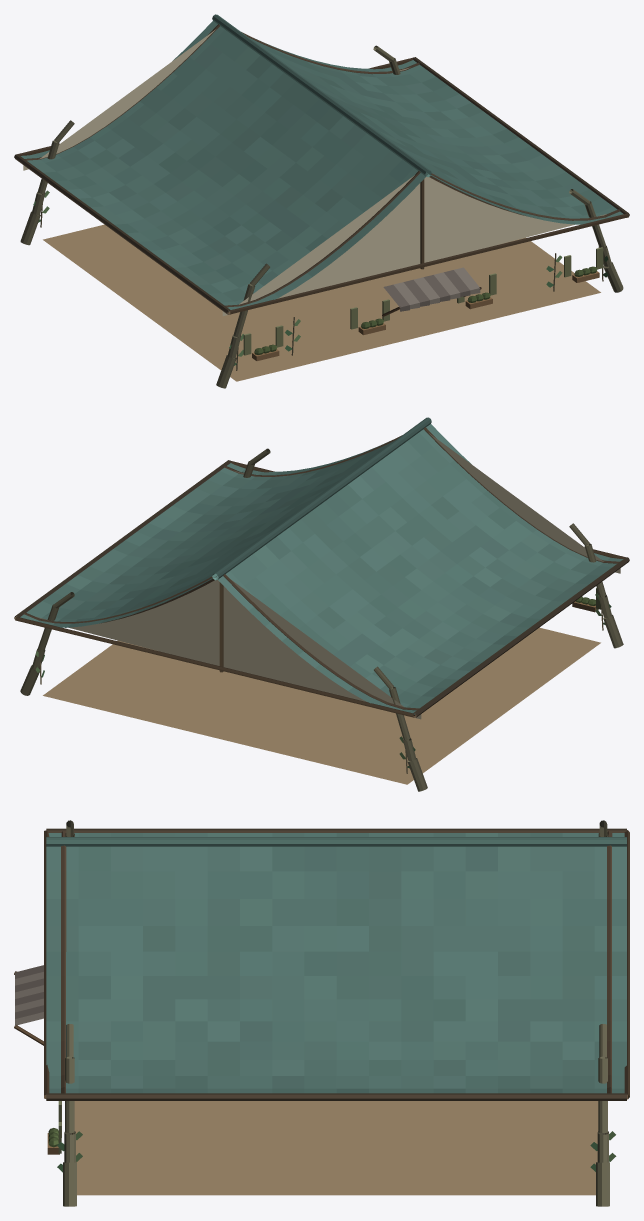
3 renders of one model, top to bottom at view 1: azimuth 30°, elevation 25°; view 2: azimuth 150°, elevation 25°; view 3: azimuth 270°, elevation 25°, orthographic. The views are drawn at different scales.
Visible parts, largest first — view 1: 2cdcbc174d2494d1dbc2094e9e8372d4cb43655d6e53309c67f23e4e3446; view 2: 2cdcbc174d2494d1dbc2094e9e8372d4cb43655d6e53309c67f23e4e3446; view 3: 2cdcbc174d2494d1dbc2094e9e8372d4cb43655d6e53309c67f23e4e3446.
Part boxes in pixels (x1,y1,x2,y2): 2cdcbc174d2494d1dbc2094e9e8372d4cb43655d6e53309c67f23e4e3446: (14,14,629,388); 2cdcbc174d2494d1dbc2094e9e8372d4cb43655d6e53309c67f23e4e3446: (14,417,629,791); 2cdcbc174d2494d1dbc2094e9e8372d4cb43655d6e53309c67f23e4e3446: (14,820,629,1206).
Bounding box in the file's own units: 14.13 × 5.85 × 13.63.
7 materials, 1 textured.
